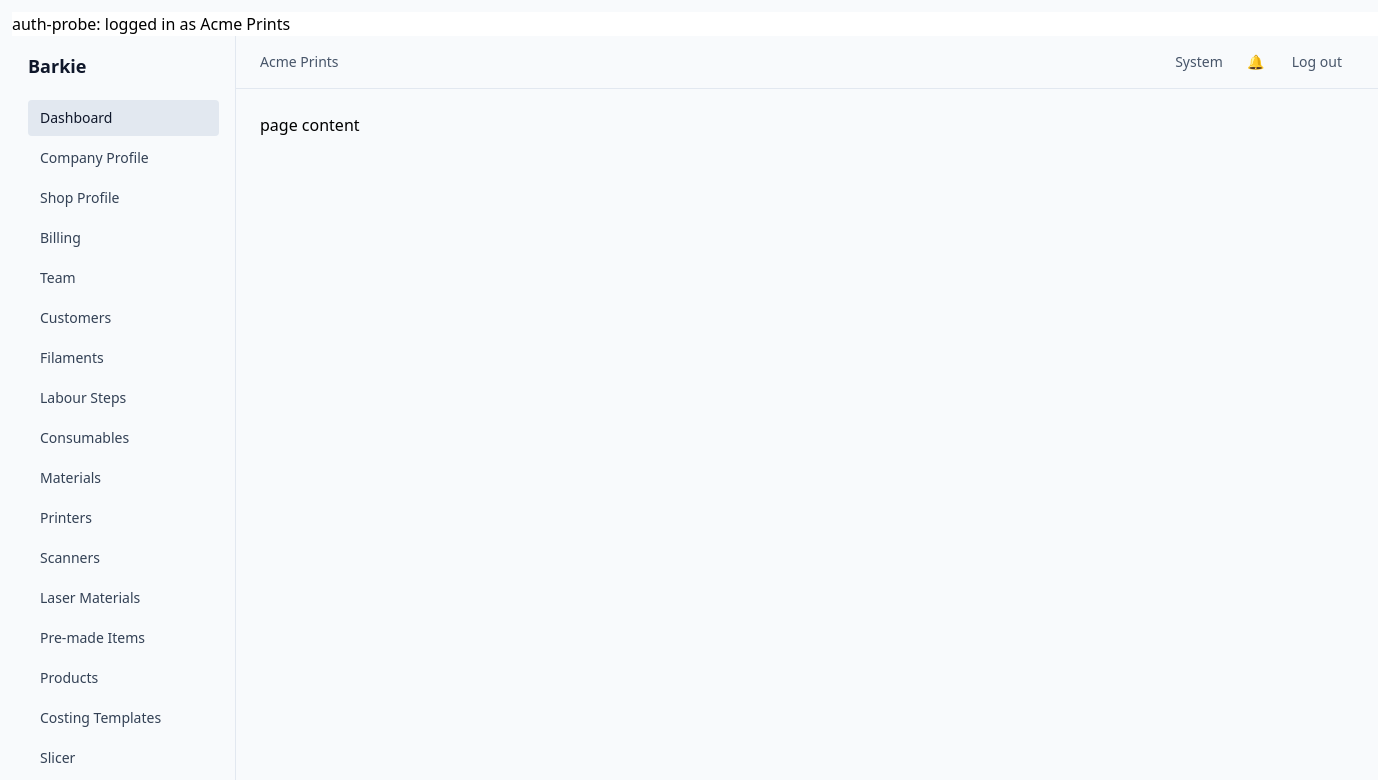
AppShell › clears the tenant (logged-out, RequireAuth-redirect-eligible) once logout refetch gets a 401
Expected: the text "auth-probe: logged in as Acme Prints" is shown, left=12, top=13, right=290, bottom=35
Click the button "Log out": point(1317, 62) left=1280, top=48, right=1354, bottom=76
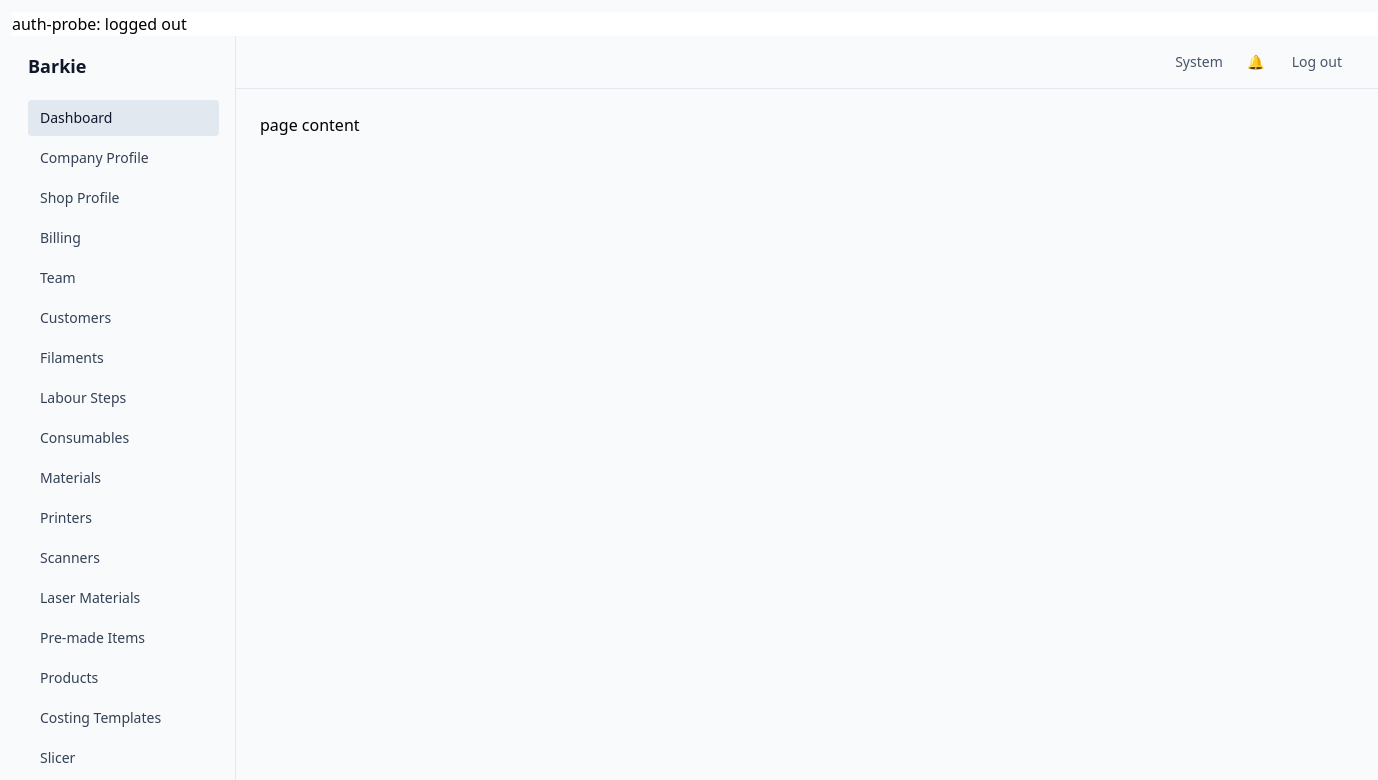
Result: the text "auth-probe: logged out" is shown at left=12, top=13, right=187, bottom=35
